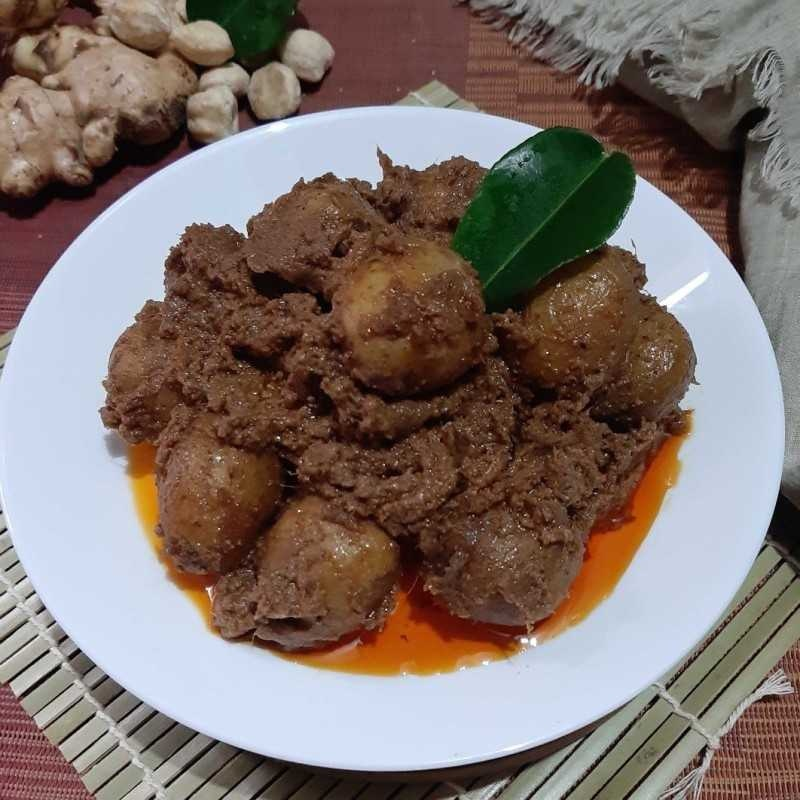rendang: (107, 156, 699, 650)
